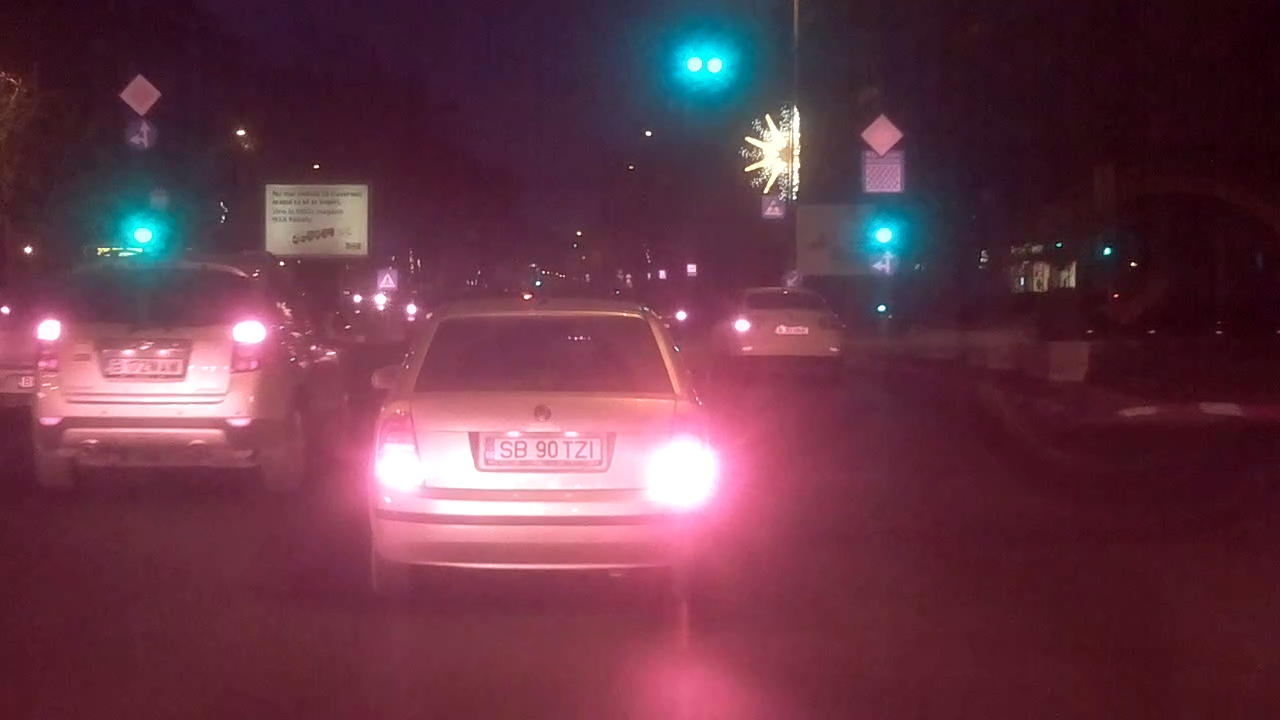license-plate: (479, 433, 607, 467)
